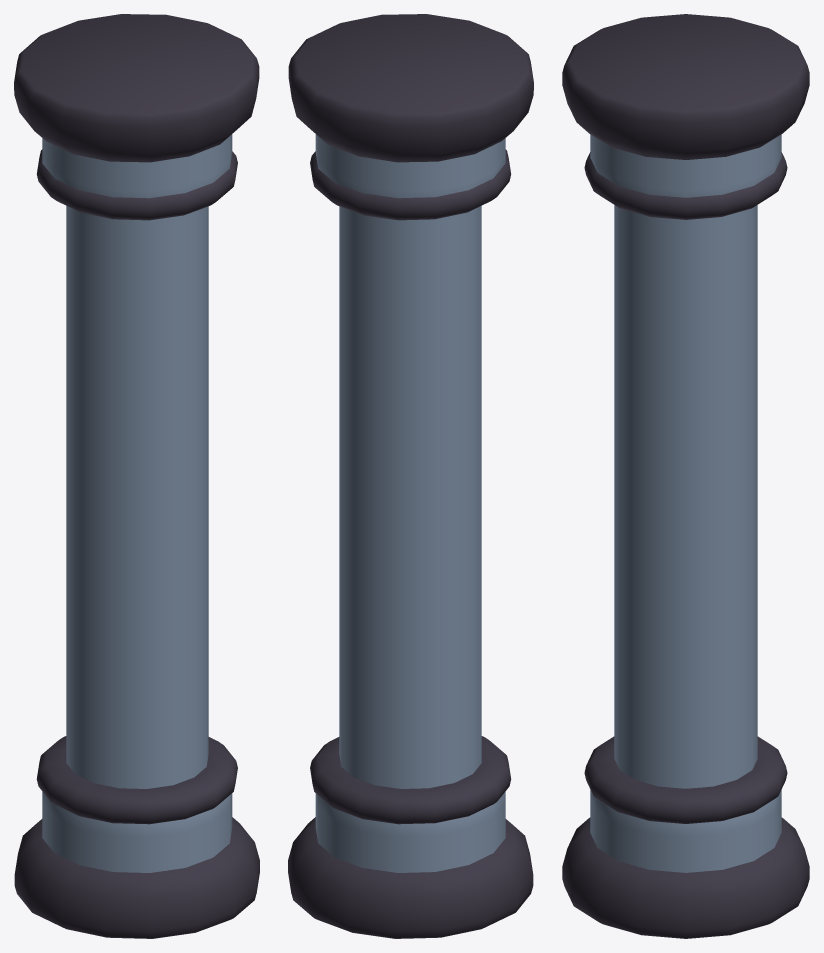
Rendered from ruins-column-1.fbx.
The picture shows the model from 3 angles, left to right: view 1: azimuth 30°, elevation 25°; view 2: azimuth 150°, elevation 25°; view 3: azimuth 270°, elevation 25°; orthographic projection.
Parts seen in each view (by area): view 1: Cylinder, Cylinder.006, Cylinder.002, Cylinder.003, Cylinder.001, Cylinder.005, Cylinder.004; view 2: Cylinder, Cylinder.006, Cylinder.002, Cylinder.003, Cylinder.001, Cylinder.005, Cylinder.004; view 3: Cylinder, Cylinder.006, Cylinder.002, Cylinder.003, Cylinder.001, Cylinder.005, Cylinder.004.
Boxes of the visible parts, x1,y1,x2,y2 form: Cylinder: (66, 206, 208, 788); Cylinder.006: (14, 14, 259, 162); Cylinder.002: (14, 817, 259, 938); Cylinder.003: (42, 791, 232, 872); Cylinder.001: (36, 736, 237, 824); Cylinder.005: (42, 134, 232, 198); Cylinder.004: (36, 149, 237, 220); Cylinder: (339, 206, 481, 788); Cylinder.006: (288, 14, 533, 162); Cylinder.002: (288, 817, 533, 938); Cylinder.003: (315, 791, 505, 872); Cylinder.001: (310, 736, 511, 824); Cylinder.005: (315, 134, 505, 198); Cylinder.004: (310, 149, 511, 220); Cylinder: (614, 205, 757, 788); Cylinder.006: (562, 14, 809, 159); Cylinder.002: (562, 817, 809, 938); Cylinder.003: (590, 790, 781, 872); Cylinder.001: (584, 736, 787, 823); Cylinder.005: (590, 134, 781, 197); Cylinder.004: (584, 152, 787, 219).
Bounding box in the file's own units: 104 × 382 × 103.
